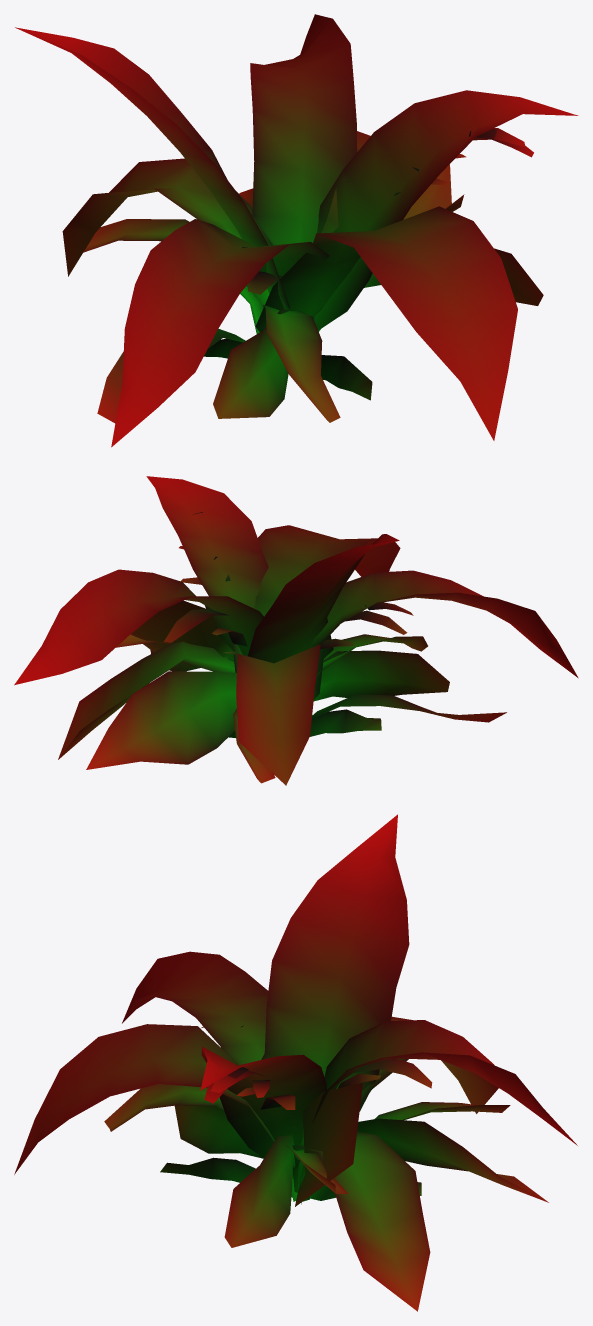
The model's file is SM_Fitch.fbx.
The picture shows the model from 3 angles, top to bottom: view 1: azimuth 30°, elevation 25°; view 2: azimuth 150°, elevation 25°; view 3: azimuth 270°, elevation 25°; orthographic projection. The views are drawn at different scales.
Parts seen in each view (by area): view 1: _ff2e_Var1_LOD1; view 2: _ff2e_Var1_LOD1; view 3: _ff2e_Var1_LOD1.
Boxes of the visible parts, x1=… form: _ff2e_Var1_LOD1: x1=15, y1=14, x2=578, y2=447; _ff2e_Var1_LOD1: x1=14, y1=476, x2=578, y2=785; _ff2e_Var1_LOD1: x1=14, y1=814, x2=577, y2=1311.
Bounding box in the file's own units: 65.8 × 46.68 × 74.56.
